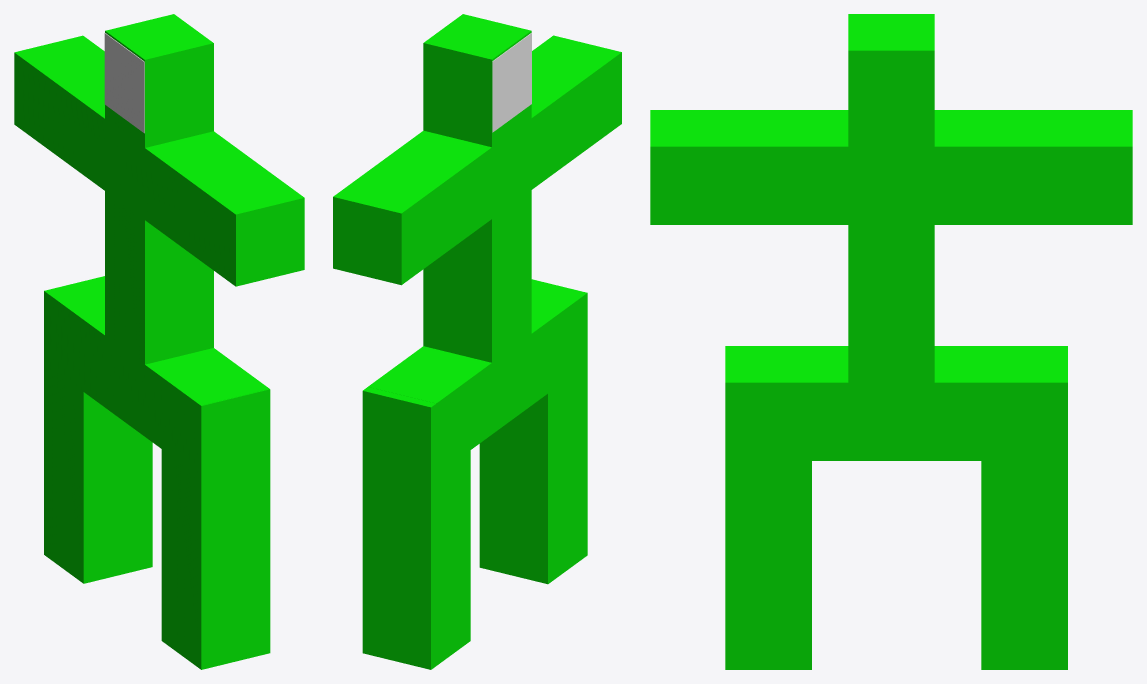
File: green.dae
3 renders of one model, left to right at view 1: azimuth 30°, elevation 25°; view 2: azimuth 150°, elevation 25°; view 3: azimuth 270°, elevation 25°, orthographic. The views are drawn at different scales.
Visible parts, largest first — view 1: Box4, Box, Box3, Box1, Box2, Box5; view 2: Box4, Box3, Box1, Box, Box2, Box5; view 3: Box4, Box3, Box1, Box, Box2.
Part boxes in pixels (box(x1,y1,x2,y2)): Box4: box(14, 35, 304, 286); Box: box(161, 389, 270, 669); Box3: box(105, 14, 213, 403); Box1: box(44, 276, 152, 583); Box2: box(49, 281, 269, 477); Box5: box(104, 33, 144, 133); Box4: box(333, 35, 621, 285); Box3: box(423, 14, 531, 423); Box1: box(362, 387, 470, 669); Box: box(479, 279, 587, 584); Box2: box(368, 280, 586, 474); Box5: box(492, 33, 531, 132); Box4: box(650, 110, 1132, 224); Box3: box(848, 14, 934, 451); Box1: box(981, 346, 1067, 669); Box: box(725, 346, 811, 669); Box2: box(726, 346, 1056, 460).
Bounding box in the file's own units: 0.7063 × 5.52 × 3.9.
